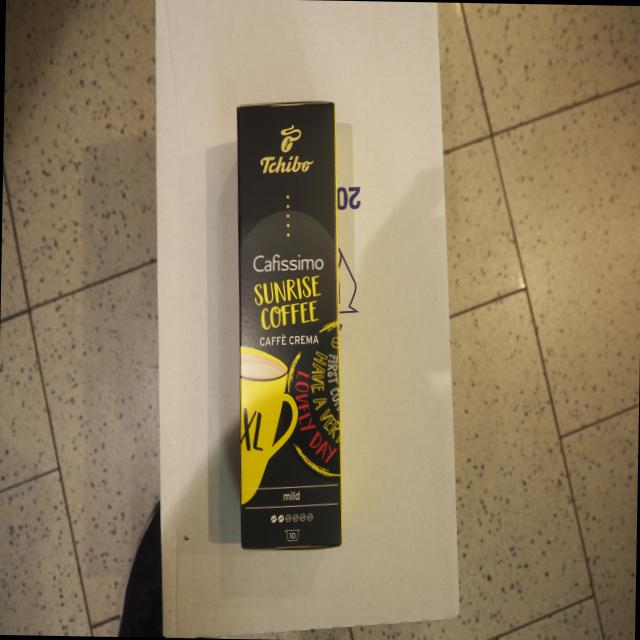Simo Sunrise: (235, 94, 344, 549)
